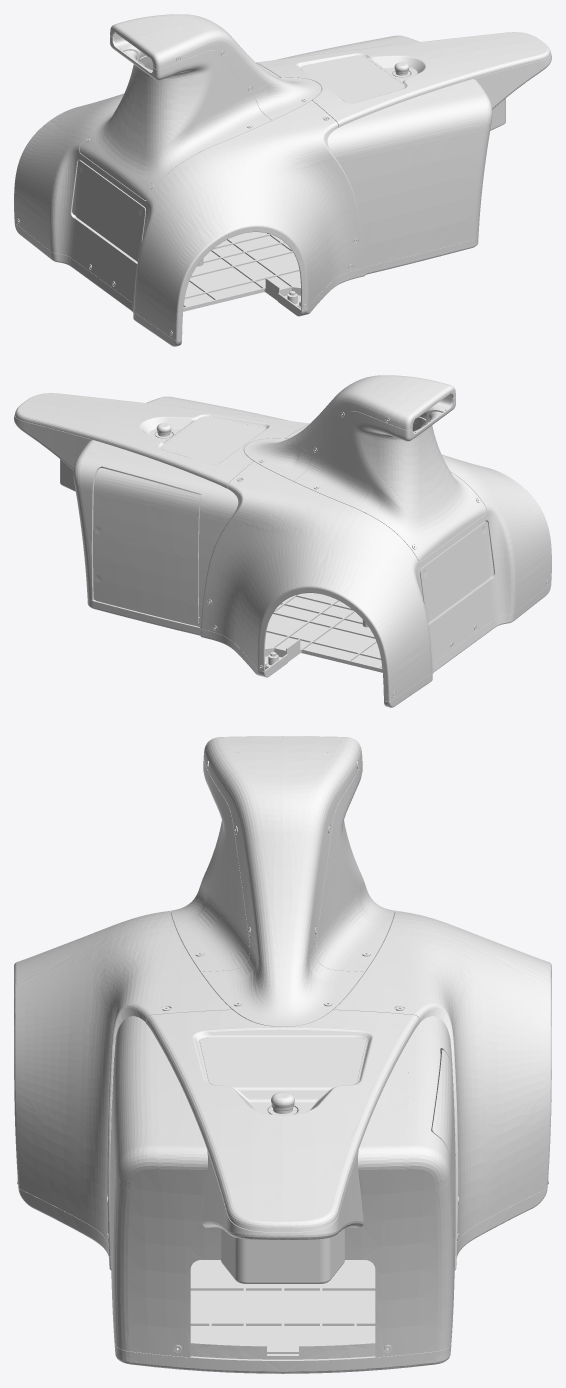
The model's file is AIF_body.dae.
3 views of the same model, one above another, from view 1: azimuth 30°, elevation 25°; view 2: azimuth 150°, elevation 25°; view 3: azimuth 270°, elevation 25° (orthographic). The views are drawn at different scales.
Visible parts, largest first — view 1: 00 AI-FOMULA ARMOR; view 2: 00 AI-FOMULA ARMOR; view 3: 00 AI-FOMULA ARMOR.
Boxes of the visible parts, x1,y1,x2,y2 form: 00 AI-FOMULA ARMOR: (14,14,551,346); 00 AI-FOMULA ARMOR: (14,375,551,707); 00 AI-FOMULA ARMOR: (14,736,551,1373).
Bounding box in the file's own units: 1.06 × 0.6707 × 0.5483.
Materials: 1 (1 with a texture image).
